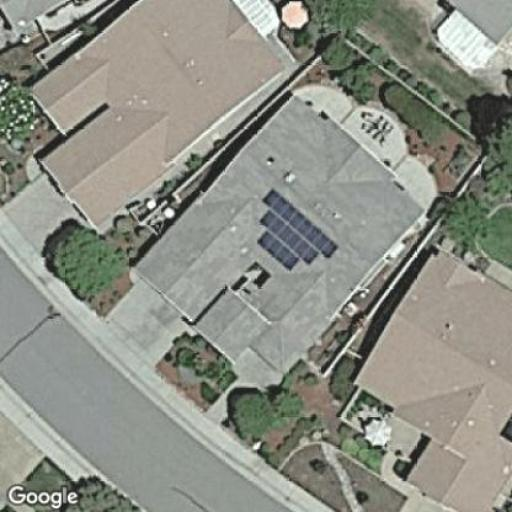solar-panel: (253, 185, 338, 272)
